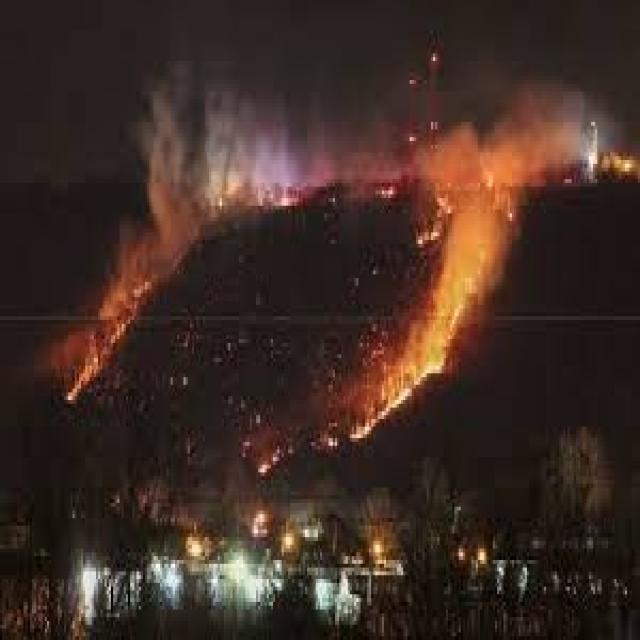Fire: (388, 238, 490, 402), (413, 151, 508, 250), (320, 363, 427, 440), (106, 209, 162, 308), (592, 112, 640, 194), (402, 302, 446, 388), (70, 314, 104, 396)
Smoke: (160, 81, 308, 198), (503, 88, 577, 204), (312, 114, 390, 210)
